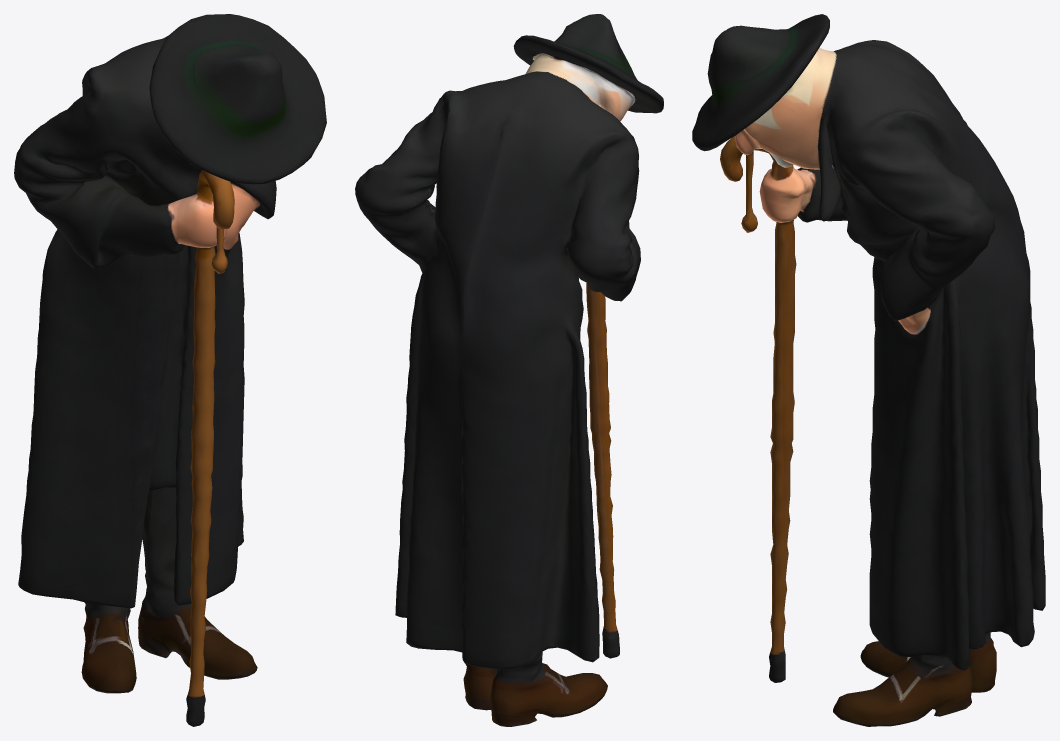
Rendered from npc_mourner_elderly.glb.
The picture shows the model from 3 angles, left to right: view 1: azimuth 30°, elevation 25°; view 2: azimuth 150°, elevation 25°; view 3: azimuth 270°, elevation 25°; orthographic projection. The views are drawn at different scales.
Bounding box in the file's own units: 0.818 × 1.91 × 0.9041.
1 material, 1 textured.
